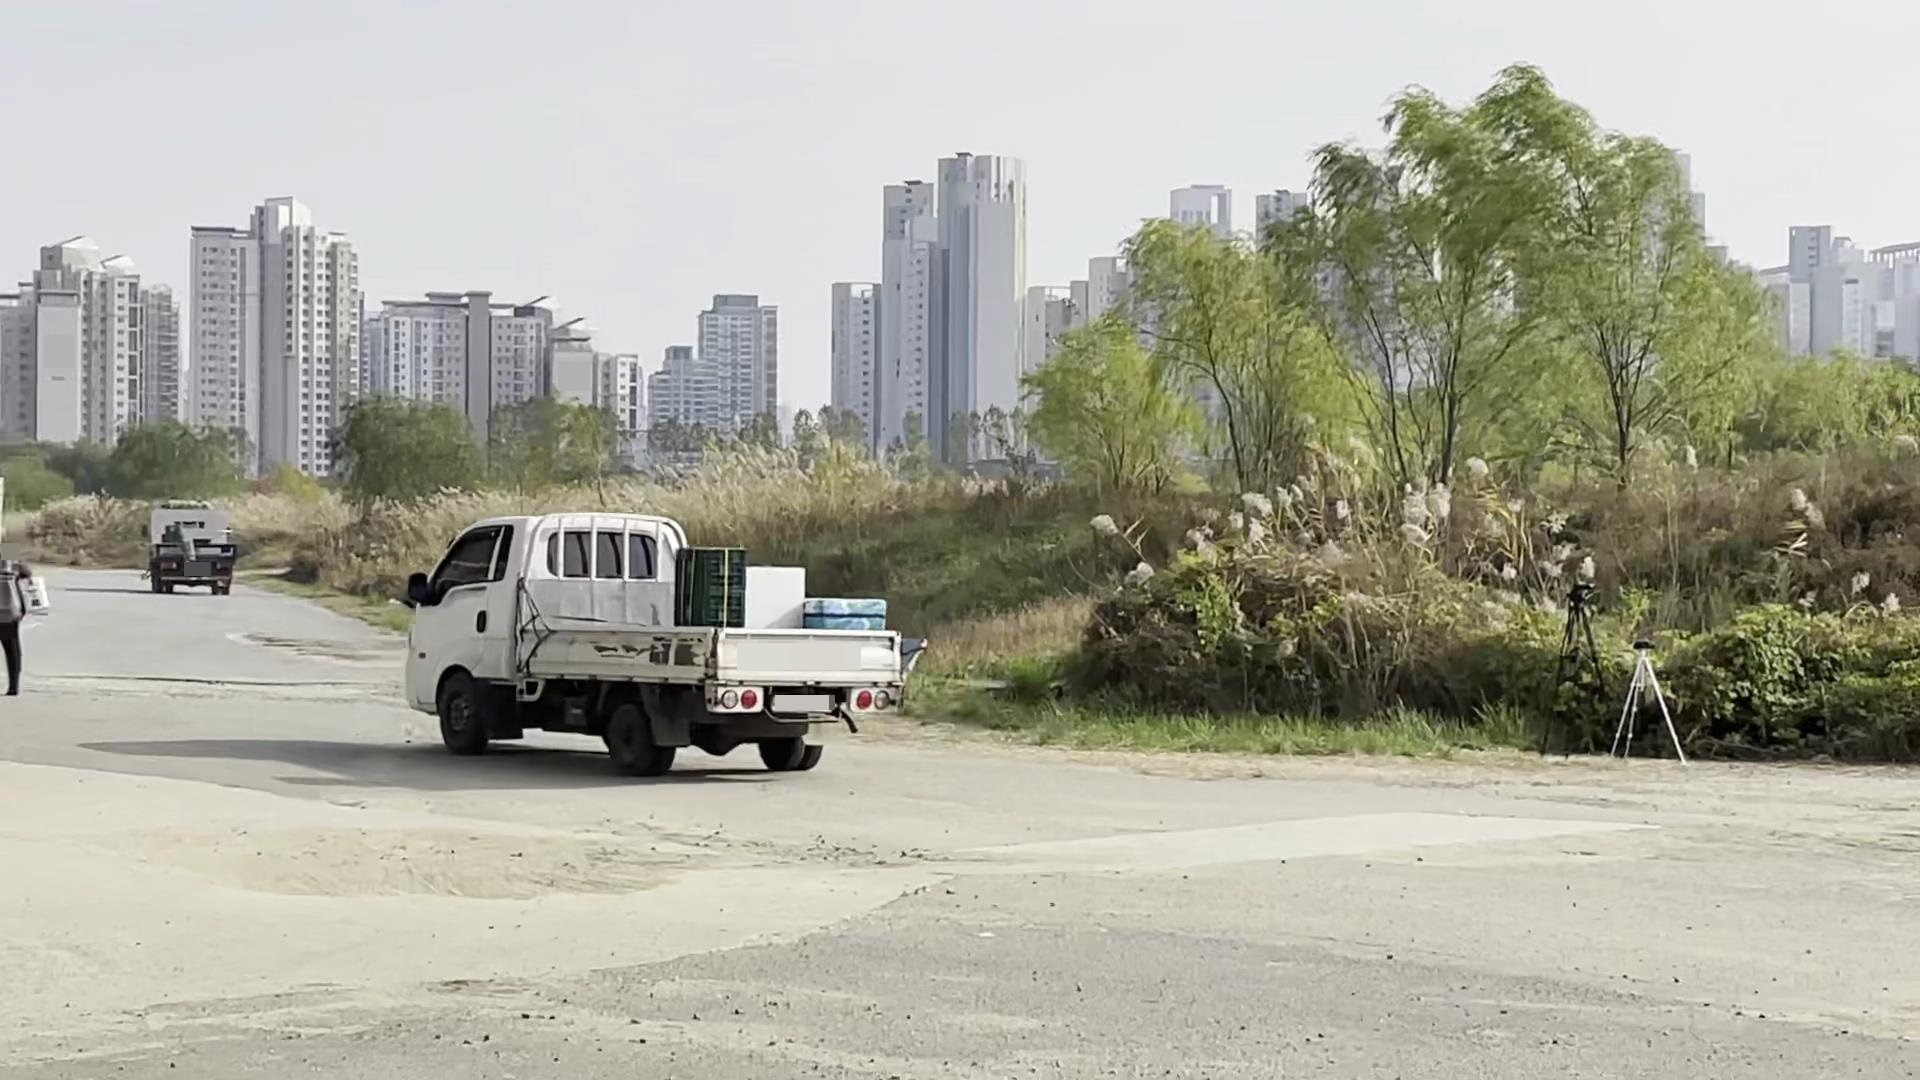불법차량: (401, 512, 931, 778)
